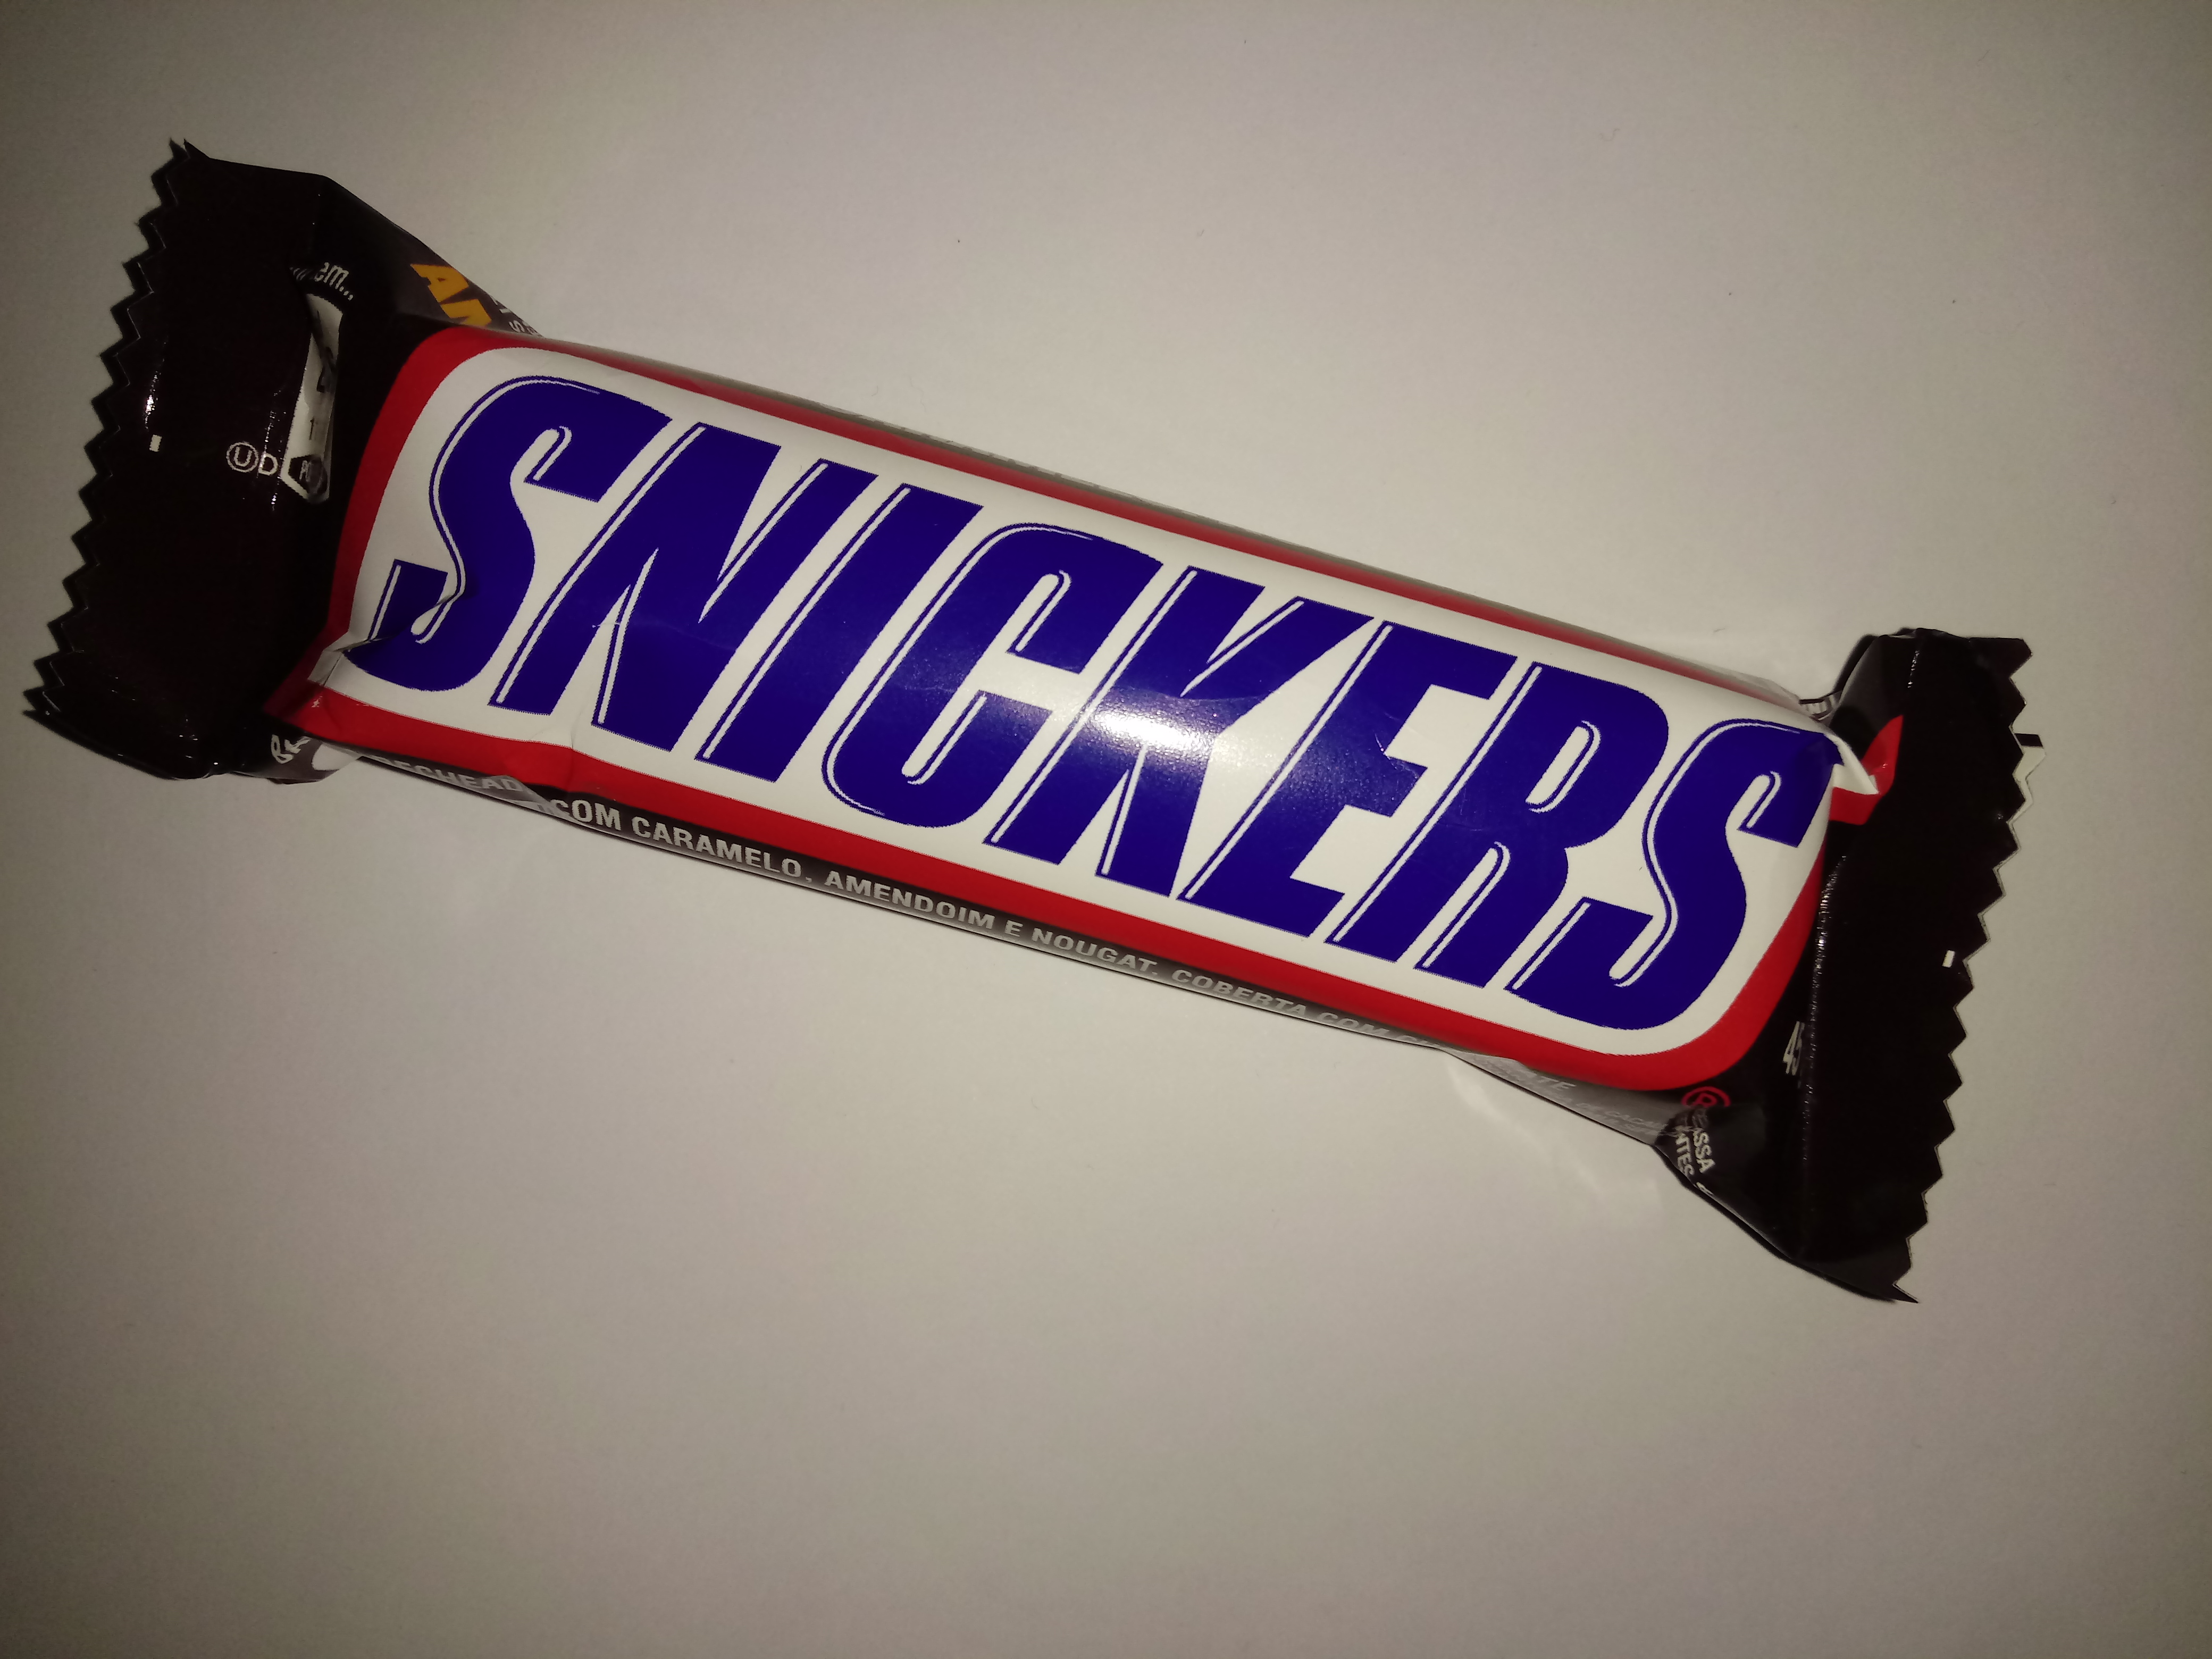snickers: (28, 124, 2074, 1358)
